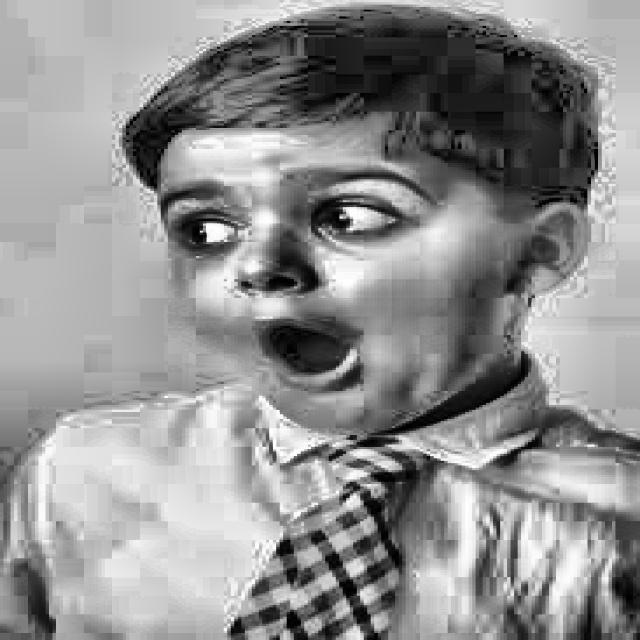surprise: (138, 125, 594, 432)
